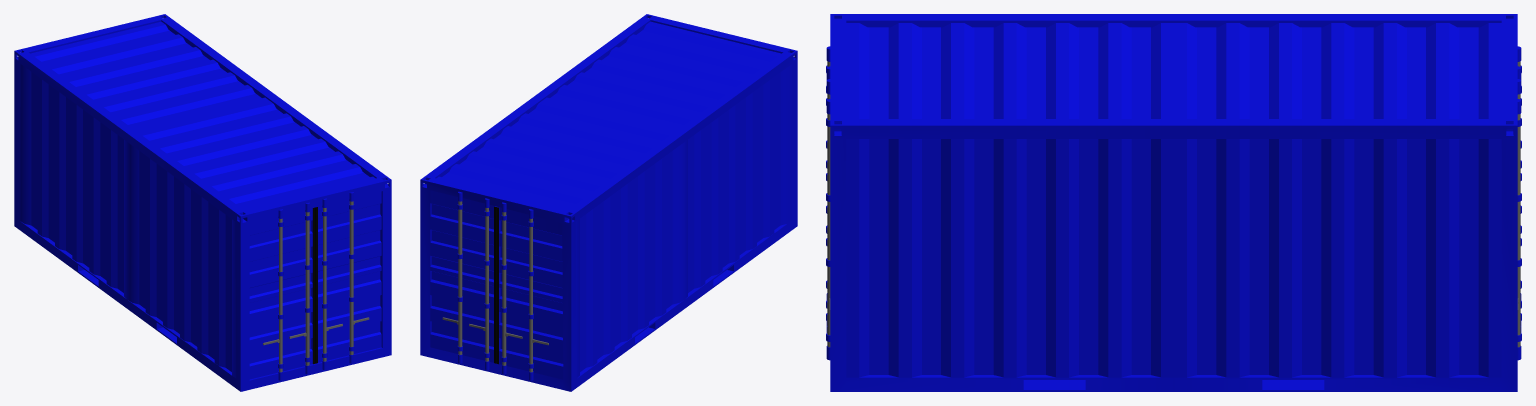
3 views of the same model, side by side, from view 1: azimuth 30°, elevation 25°; view 2: azimuth 150°, elevation 25°; view 3: azimuth 270°, elevation 25° (orthographic). The views are drawn at different scales.
Visible parts, largest first — view 1: Cube; view 2: Cube; view 3: Cube.
Boxes of the visible parts, bbox=[...] form: Cube: bbox=[14, 14, 391, 391]; Cube: bbox=[420, 14, 797, 391]; Cube: bbox=[826, 14, 1521, 391].
Size of the model in its own units: 233 by 259 by 613.
